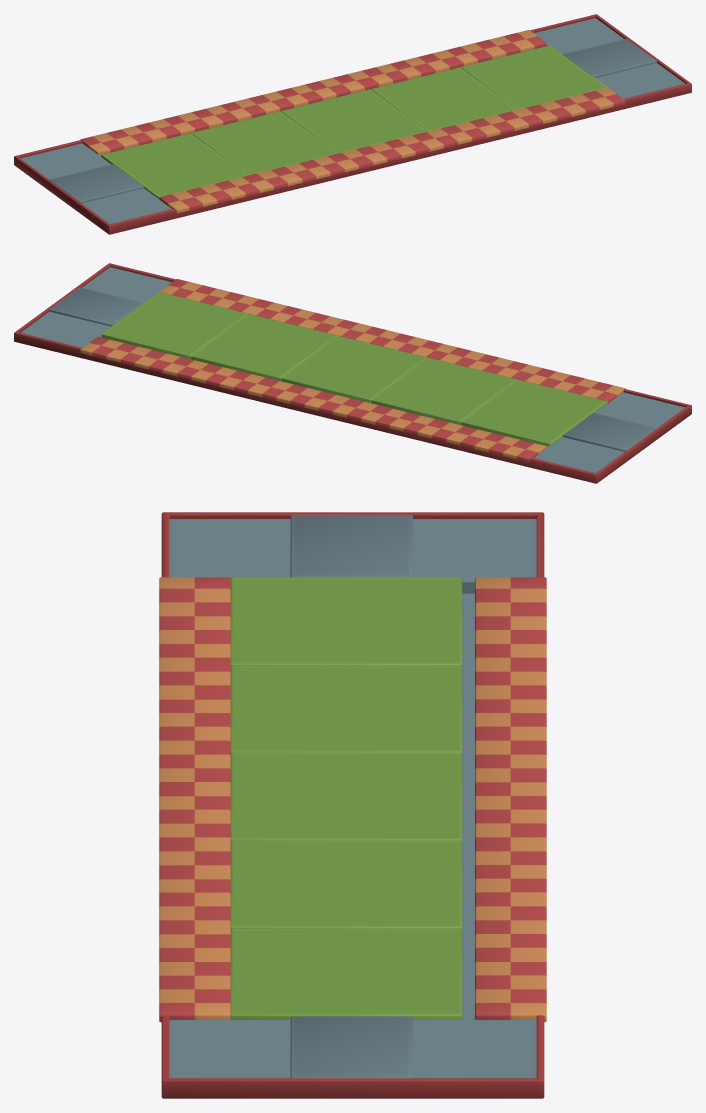
Rendered from SM_RunFloor04.fbx.
The picture shows the model from 3 angles, top to bottom: view 1: azimuth 30°, elevation 25°; view 2: azimuth 150°, elevation 25°; view 3: azimuth 270°, elevation 25°; orthographic projection. The views are drawn at different scales.
Parts seen in each view (by area): view 1: SM_RunFloor04; view 2: SM_RunFloor04; view 3: SM_RunFloor04.
Part boxes in pixels (bbox=[...]): SM_RunFloor04: bbox=[14, 14, 691, 234]; SM_RunFloor04: bbox=[14, 263, 691, 483]; SM_RunFloor04: bbox=[159, 512, 546, 1098].
Bounding box in the file's own units: 6099 × 92.54 × 1756.
